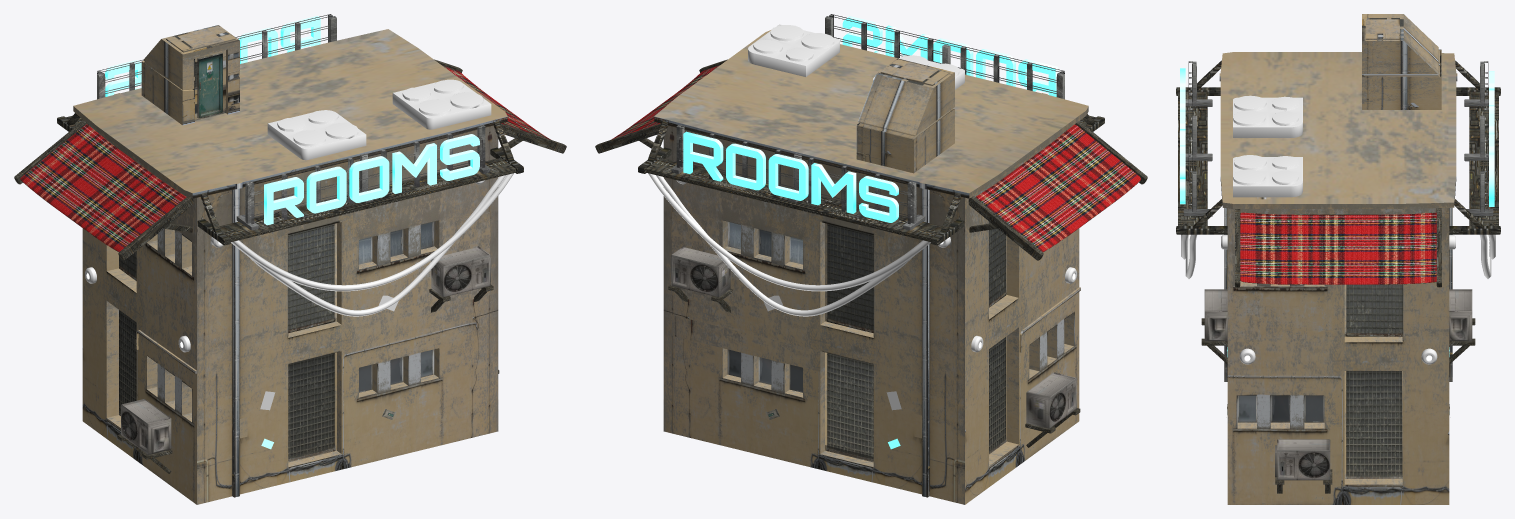
File: boarding.glb
The picture shows the model from 3 angles, left to right: view 1: azimuth 30°, elevation 25°; view 2: azimuth 150°, elevation 25°; view 3: azimuth 270°, elevation 25°; orthographic projection. The views are drawn at different scales.
Parts seen in each view (by area): view 1: APARTMENT BULDING_0; view 2: APARTMENT BULDING_0; view 3: APARTMENT BULDING_0.
Part boxes in pixels (box(x1,y1,x2,y2)): APARTMENT BULDING_0: box(14, 14, 566, 504); APARTMENT BULDING_0: box(595, 14, 1147, 504); APARTMENT BULDING_0: box(1176, 14, 1500, 504).
Bounding box in the file's own units: 16.86 × 13.98 × 10.95.
18 materials, 10 textured.
